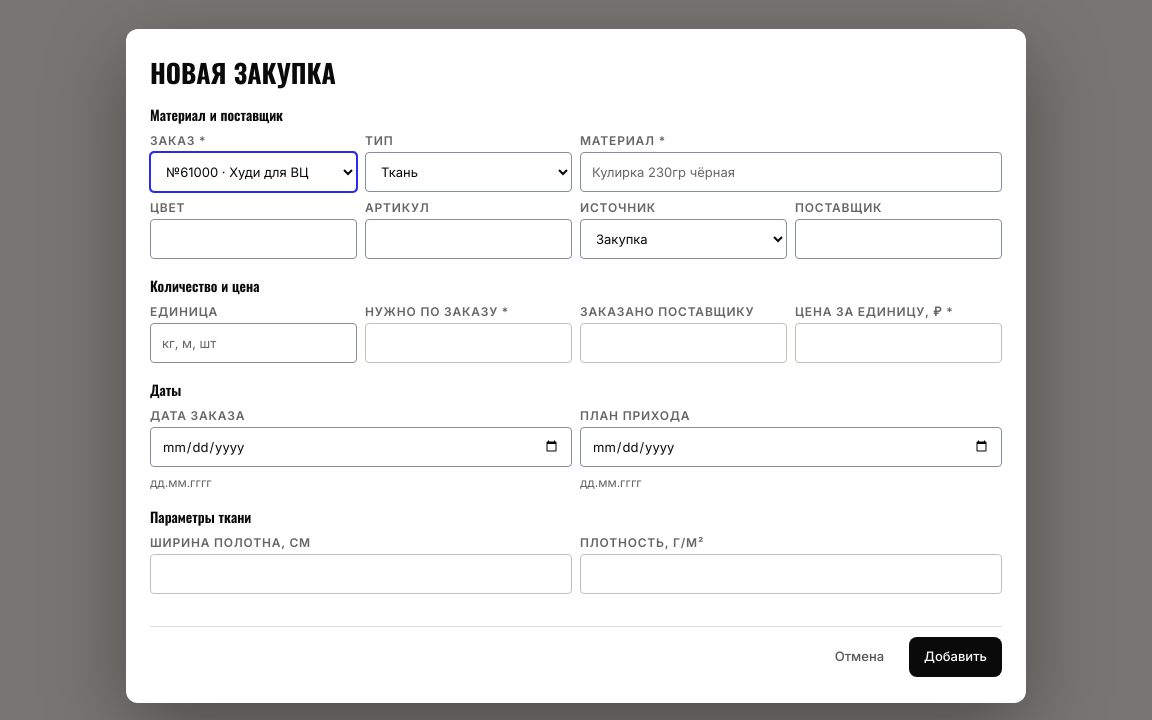
it: AddPurchaseModal — подсветка обязательных полей › заполнение снимает подсветку с поля сразу, без повторного нажатия
This screenshot has width=1152, height=720.
Click the button "Добавить": coordinates (956, 657) [909, 637, 1002, 677]
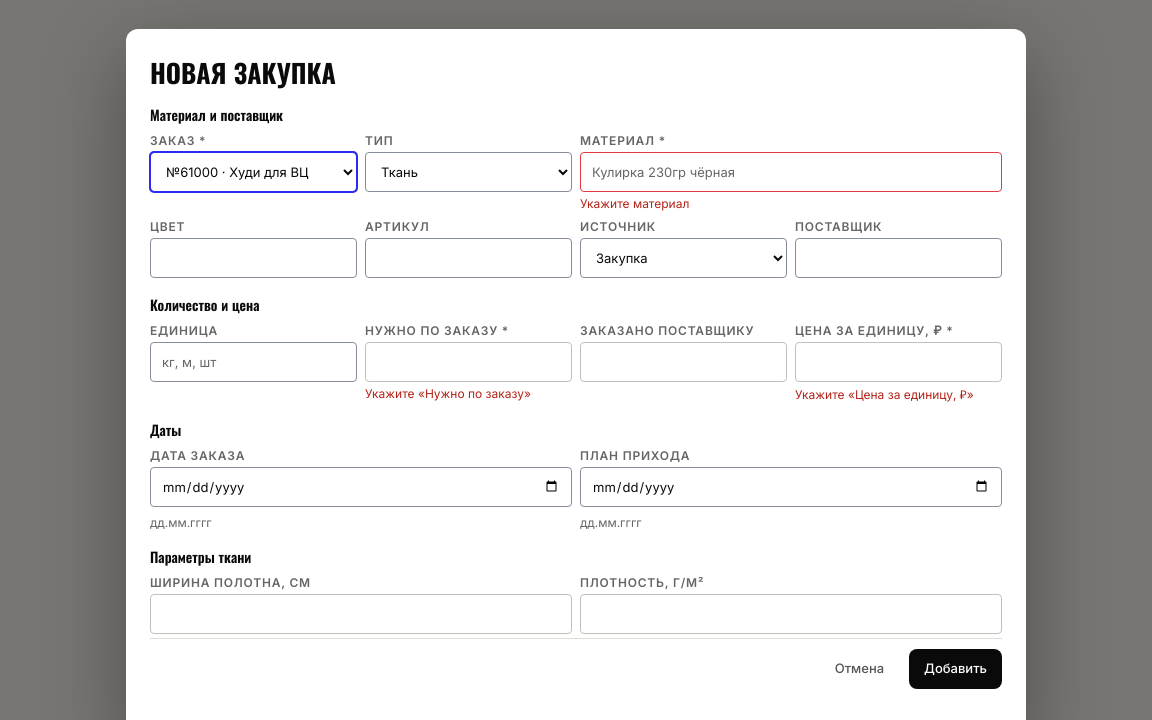
In the field labelled "Материал": coordinates (791, 172) [580, 152, 1002, 192], type "Кулирка 230"
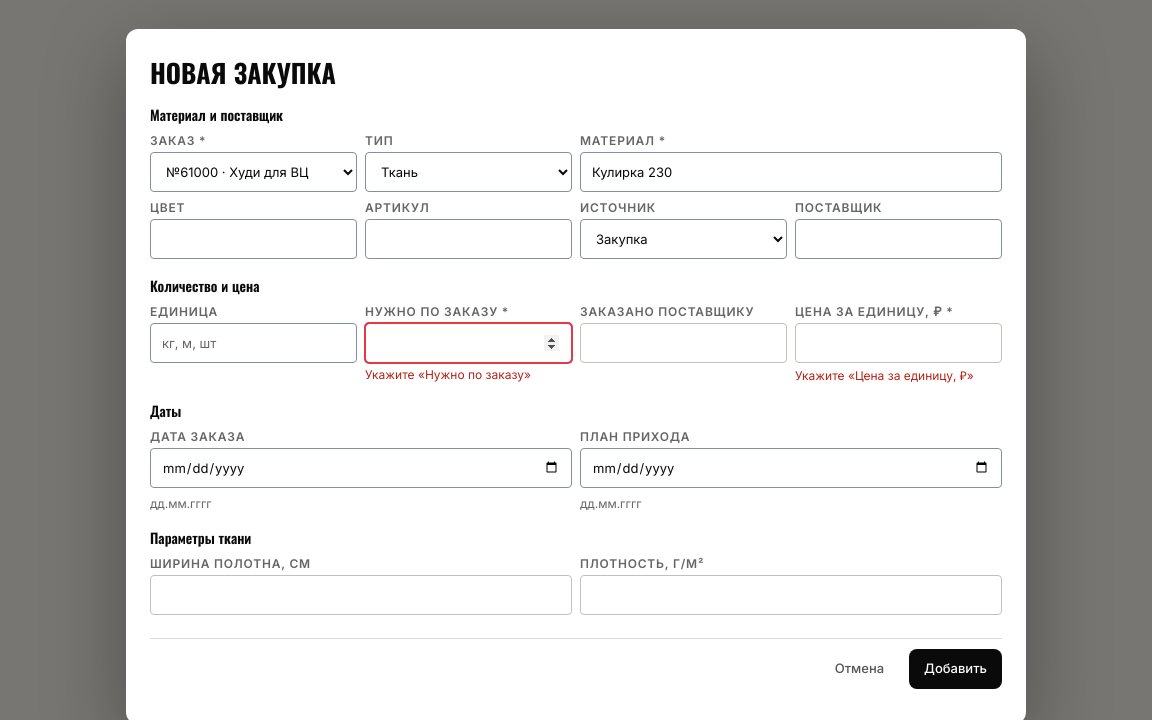
Expected: the text "Укажите материал" is gone
